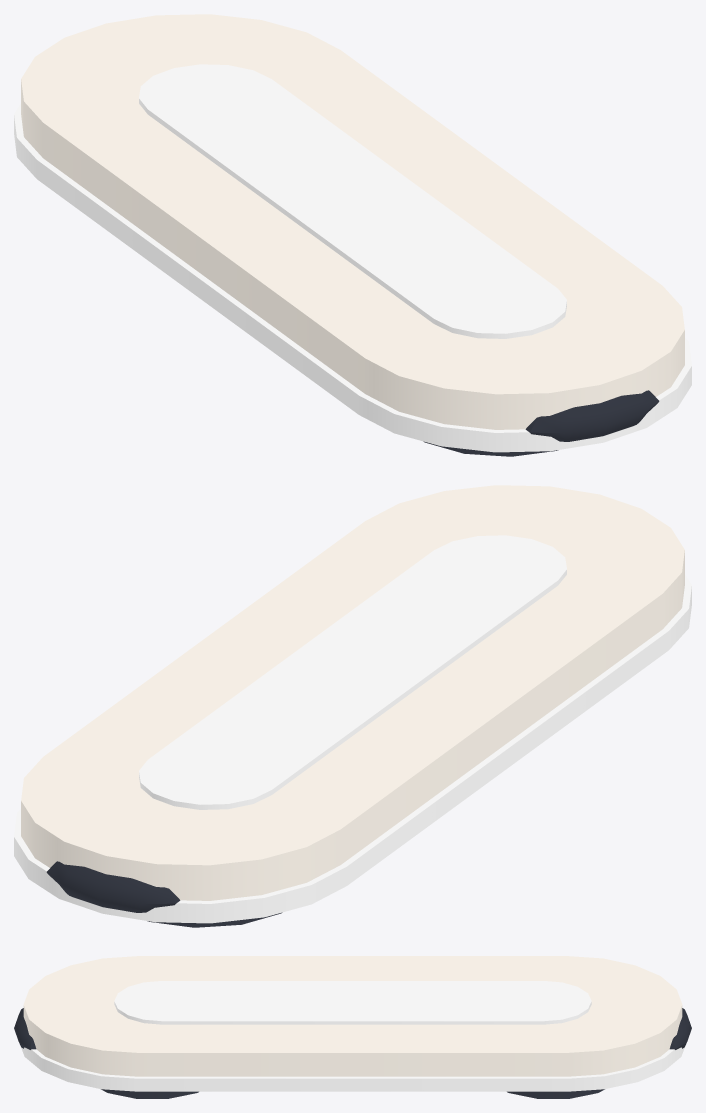
File: hoverboard.glb
The picture shows the model from 3 angles, top to bottom: view 1: azimuth 30°, elevation 25°; view 2: azimuth 150°, elevation 25°; view 3: azimuth 270°, elevation 25°; orthographic projection. The views are drawn at different scales.
Visible parts, largest first — view 1: hoverboard; view 2: hoverboard; view 3: hoverboard.
Boxes of the visible parts, x1=… form: hoverboard: x1=14, y1=14, x2=691, y2=456; hoverboard: x1=14, y1=485, x2=691, y2=927; hoverboard: x1=14, y1=956, x2=691, y2=1098.
Bounding box in the file's own units: 0.5 × 0.17 × 1.42.
1 material, 1 textured.
